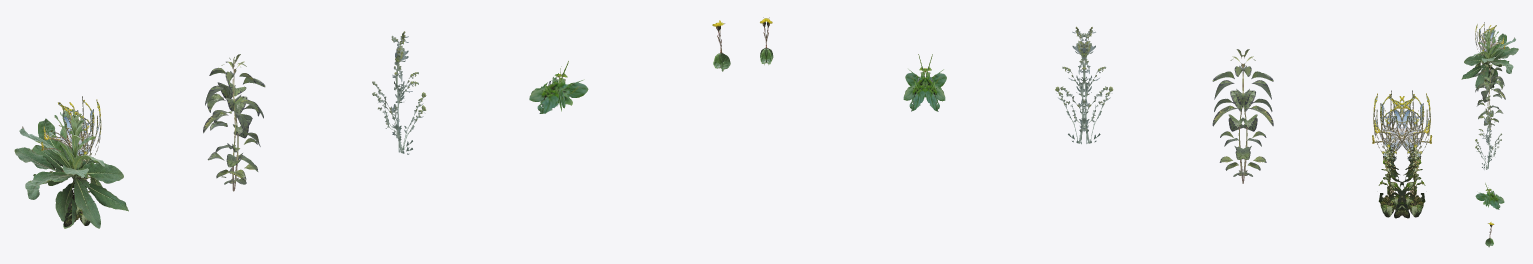
The model's file is byliny.glb.
3 views of the same model, side by side, from view 1: azimuth 30°, elevation 25°; view 2: azimuth 150°, elevation 25°; view 3: azimuth 270°, elevation 25° (orthographic). The views are drawn at different scales.
Parts seen in each view (by area): view 1: divizna, kopriva, pelynek, jitrocel; view 2: divizna, kopriva, pelynek, jitrocel; view 3: divizna, kopriva, pelynek, jitrocel, podbel.
Part boxes in pixels (x1,y1,x2,y2): divizna: (14,96,128,228); kopriva: (203,54,265,191); pelynek: (372,31,426,154); jitrocel: (529,61,588,113); divizna: (1372,90,1432,218); kopriva: (1212,49,1273,183); pelynek: (1055,26,1113,144); jitrocel: (903,54,946,111); divizna: (1461,22,1518,88); kopriva: (1474,60,1505,128); pelynek: (1475,108,1501,169); jitrocel: (1475,183,1504,209); podbel: (1485,222,1494,247).
Size of the model in its own units: 4.24 by 0.8 by 0.6157.
1 material, 1 textured.
